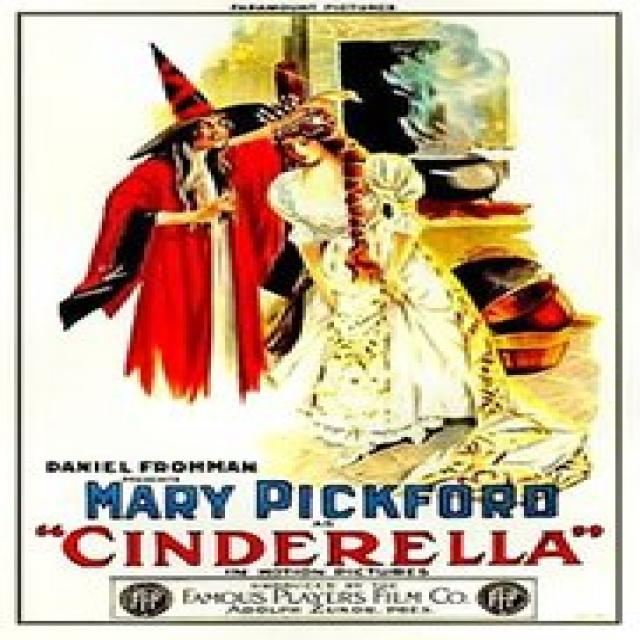movie-judul: (24, 518, 615, 577)
picture: (20, 14, 614, 485)
